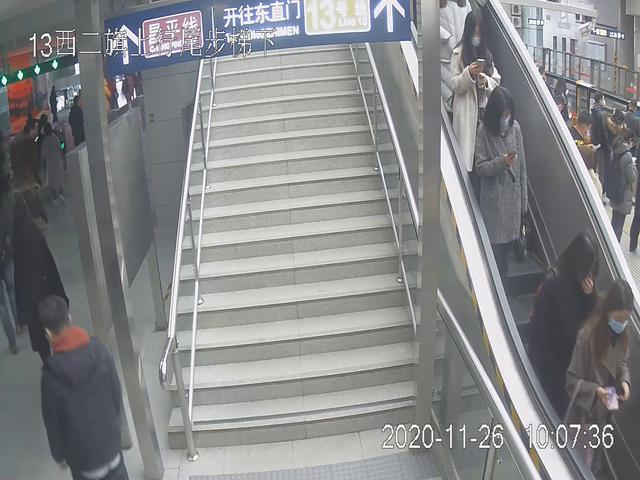person: (29, 287, 127, 480), (566, 276, 637, 480), (471, 83, 531, 309), (447, 3, 502, 211)
